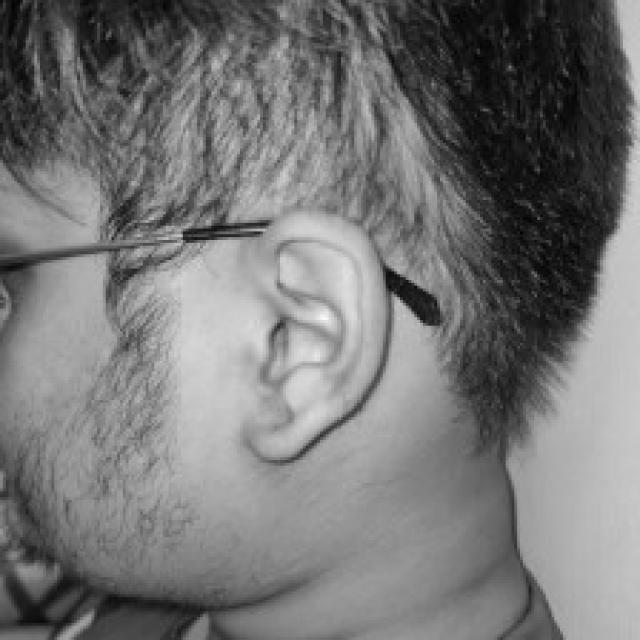ear: (246, 211, 386, 460)
